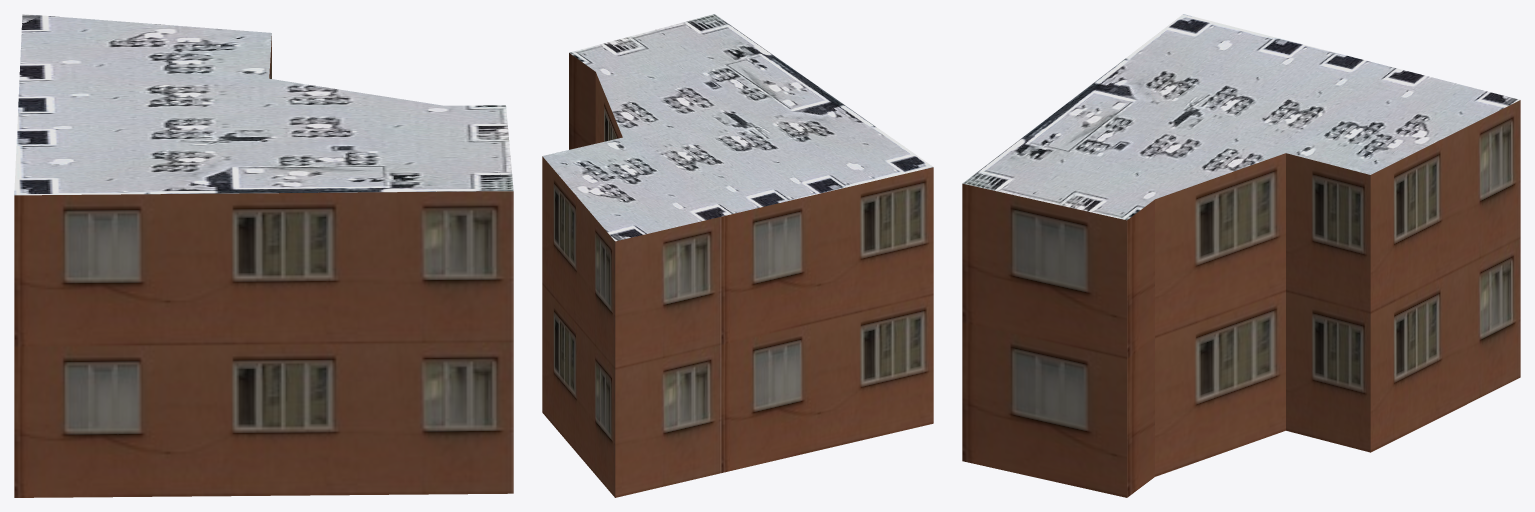
File: ResTex__3385.fbx
3 views of the same model, side by side, from view 1: azimuth 30°, elevation 25°; view 2: azimuth 150°, elevation 25°; view 3: azimuth 270°, elevation 25° (orthographic). The views are drawn at different scales.
Parts seen in each view (by area): view 1: CityEngineMaterial_20_m, CityEngineMaterial_8_m; view 2: CityEngineMaterial_20_m, CityEngineMaterial_8_m; view 3: CityEngineMaterial_20_m, CityEngineMaterial_8_m.
Part boxes in pixels (x1,y1,x2,y2): CityEngineMaterial_20_m: (14, 36, 513, 497); CityEngineMaterial_8_m: (14, 14, 513, 195); CityEngineMaterial_20_m: (542, 53, 933, 497); CityEngineMaterial_8_m: (542, 14, 933, 241); CityEngineMaterial_20_m: (962, 100, 1520, 497); CityEngineMaterial_8_m: (962, 14, 1519, 220).
Size of the model in its own units: 9.57 by 6 by 10.94.
Materials: 2 (2 with a texture image).
